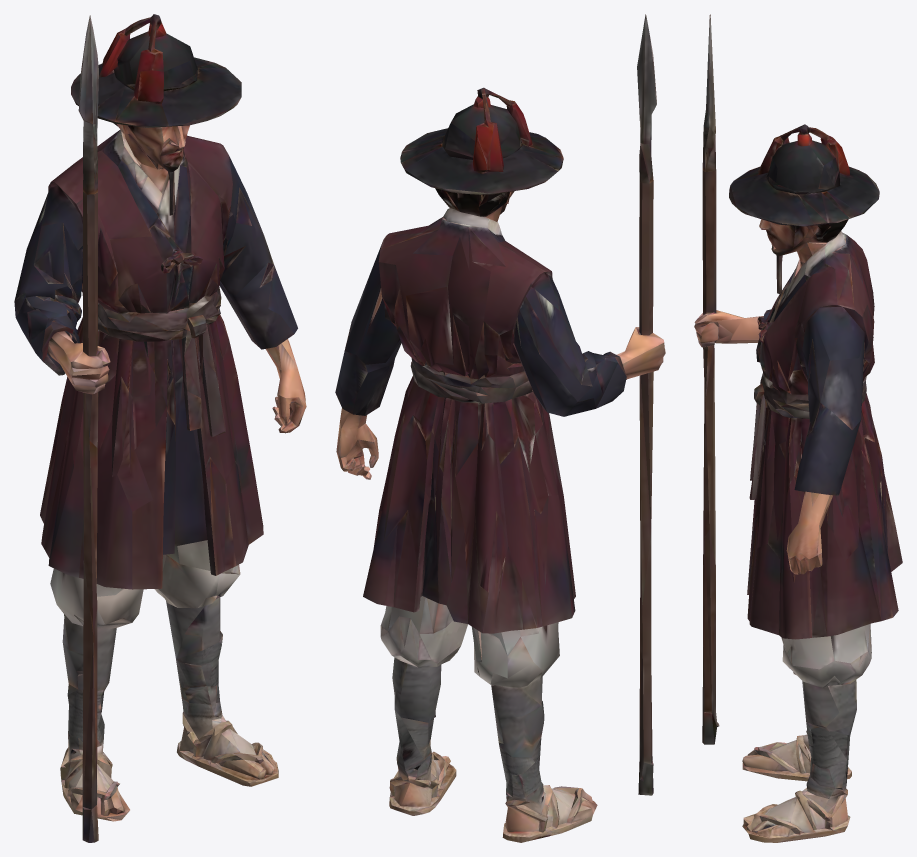
File: rioter_spear.glb
3 views of the same model, side by side, from view 1: azimuth 30°, elevation 25°; view 2: azimuth 150°, elevation 25°; view 3: azimuth 270°, elevation 25° (orthographic). The views are drawn at different scales.
Bounding box in the file's own units: 0.6875 × 1.9 × 0.4887.
Materials: 1 (1 with a texture image).
